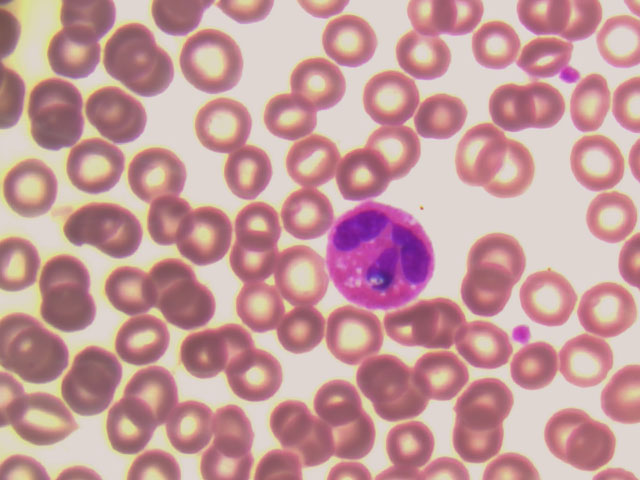Platelets: (509, 317, 538, 348), (556, 63, 587, 89)
RBC: (179, 31, 246, 95), (389, 26, 458, 83), (464, 227, 533, 284), (451, 265, 520, 322), (516, 269, 585, 326), (189, 94, 252, 155), (102, 21, 163, 83), (48, 23, 109, 85), (22, 76, 83, 138), (577, 278, 638, 339), (555, 331, 616, 392), (504, 341, 565, 402), (452, 315, 513, 376), (410, 296, 471, 357), (408, 339, 469, 400), (451, 372, 512, 433), (445, 413, 506, 474), (543, 403, 604, 464), (376, 411, 437, 472), (357, 350, 418, 411), (311, 363, 372, 424), (319, 409, 380, 470), (276, 413, 337, 474), (251, 387, 312, 448), (231, 353, 292, 414), (209, 325, 270, 386), (175, 321, 236, 382), (157, 286, 218, 347), (141, 253, 202, 314), (178, 206, 239, 267), (144, 197, 205, 258), (125, 143, 186, 204), (63, 137, 124, 198), (86, 82, 147, 143), (3, 155, 64, 216), (71, 194, 132, 255), (33, 251, 94, 312), (42, 279, 103, 340), (9, 323, 70, 384), (68, 338, 129, 399), (106, 315, 167, 376), (94, 261, 155, 322), (125, 362, 186, 423), (101, 395, 162, 456), (161, 396, 222, 457), (203, 398, 264, 459), (11, 388, 72, 449), (579, 185, 640, 246), (218, 140, 275, 202), (260, 87, 318, 147), (288, 54, 346, 114), (321, 10, 379, 70), (361, 68, 419, 128), (412, 84, 470, 144), (371, 119, 429, 179), (331, 147, 389, 207), (283, 132, 341, 192), (277, 183, 335, 243), (228, 193, 286, 253), (221, 230, 279, 290), (274, 244, 332, 304), (231, 274, 289, 334), (272, 302, 330, 362), (329, 303, 387, 363), (566, 136, 624, 196), (485, 144, 543, 204), (451, 125, 509, 185), (476, 77, 534, 137), (519, 80, 577, 140), (565, 76, 623, 136), (514, 18, 572, 78), (471, 15, 529, 75), (1, 234, 42, 294), (402, 1, 455, 46)
WBC: (326, 203, 438, 308)
